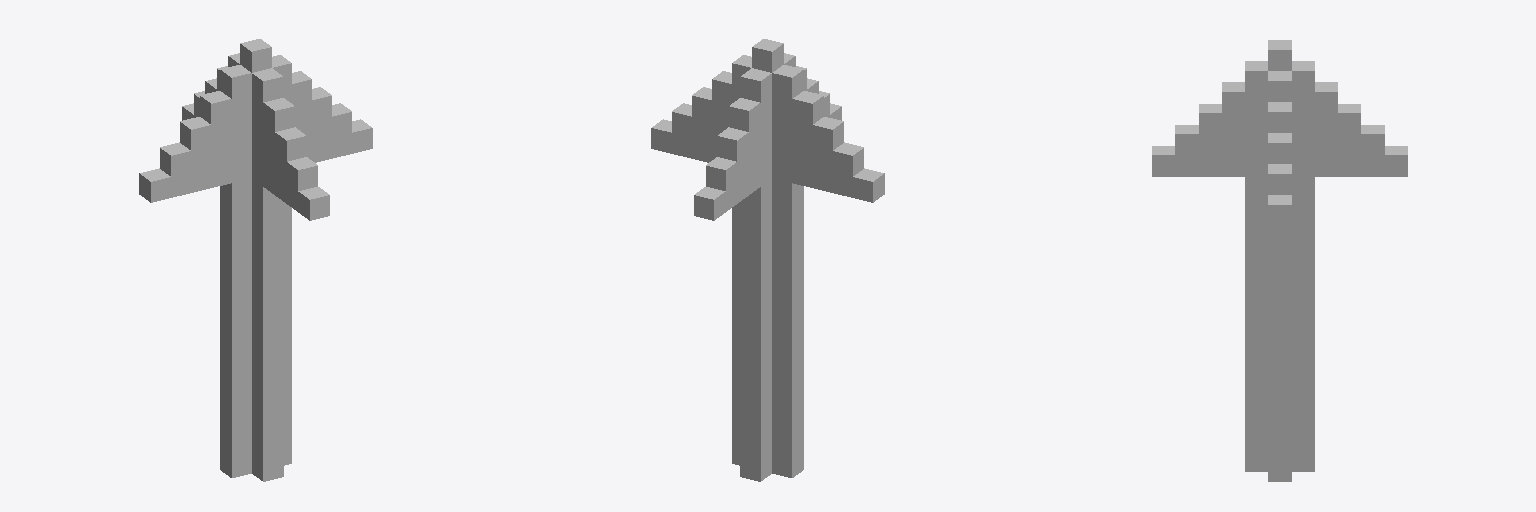
The model's file is arrow.obj.
The picture shows the model from 3 angles: view 1: azimuth 30°, elevation 25°; view 2: azimuth 150°, elevation 25°; view 3: azimuth 270°, elevation 25°; orthographic projection.
Parts seen in each view (by area): view 1: object 1; view 2: object 1; view 3: object 1.
Boxes of the visible parts, x1,y1,x2,y2 form: object 1: [139, 39, 372, 481]; object 1: [651, 39, 884, 481]; object 1: [1152, 40, 1407, 481].
Bounding box in the file's own units: 1.1 × 2 × 1.1.